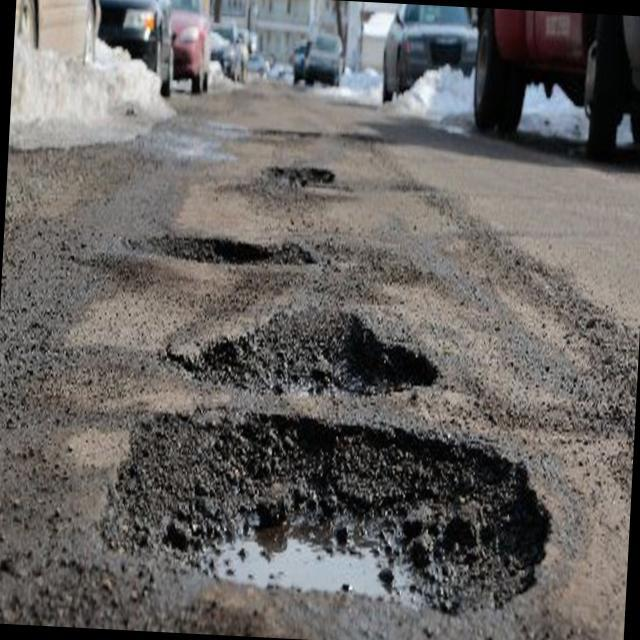Pothole: (123, 394, 569, 640), (188, 300, 444, 403), (140, 224, 322, 272), (268, 154, 338, 206)
